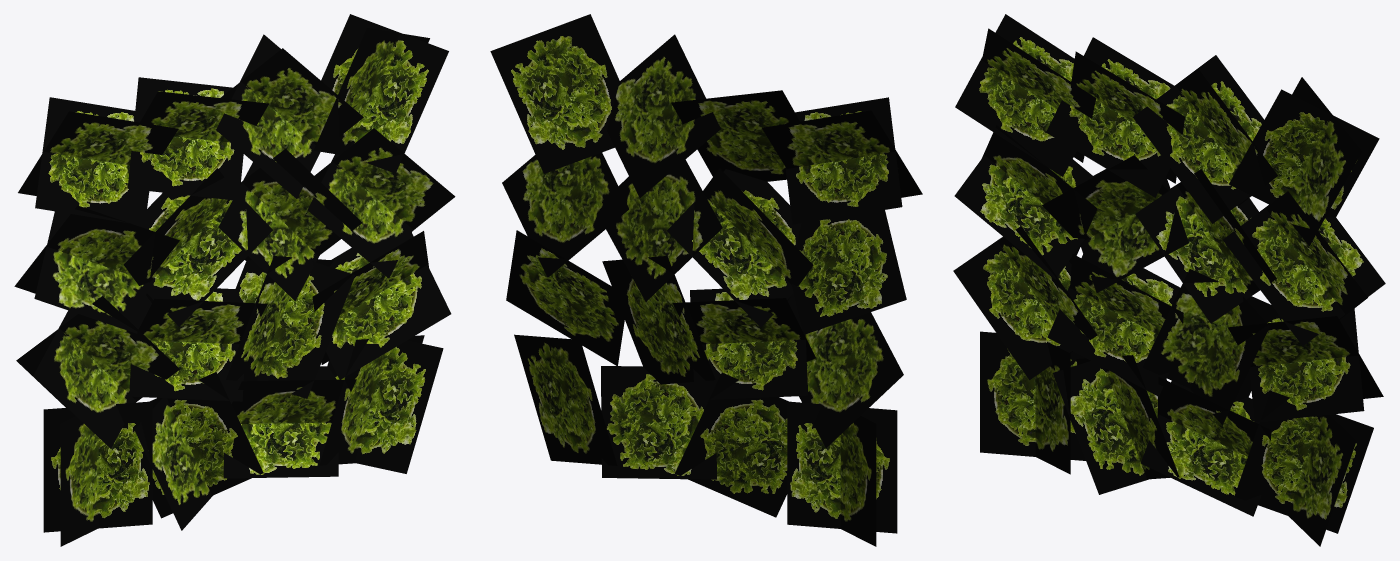
The model's file is salad.glb.
The picture shows the model from 3 angles, left to right: view 1: azimuth 30°, elevation 25°; view 2: azimuth 150°, elevation 25°; view 3: azimuth 330°, elevation 25°; orthographic projection.
Parts seen in each view (by area): view 1: Cube; view 2: Cube; view 3: Cube.
Boxes of the visible parts, x1,y1,x2,y2 form: Cube: (14, 14, 455, 546); Cube: (490, 14, 922, 546); Cube: (953, 14, 1385, 546).
Size of the model in its own units: 4.29 by 4.46 by 0.3341.
Materials: 1 (1 with a texture image).
